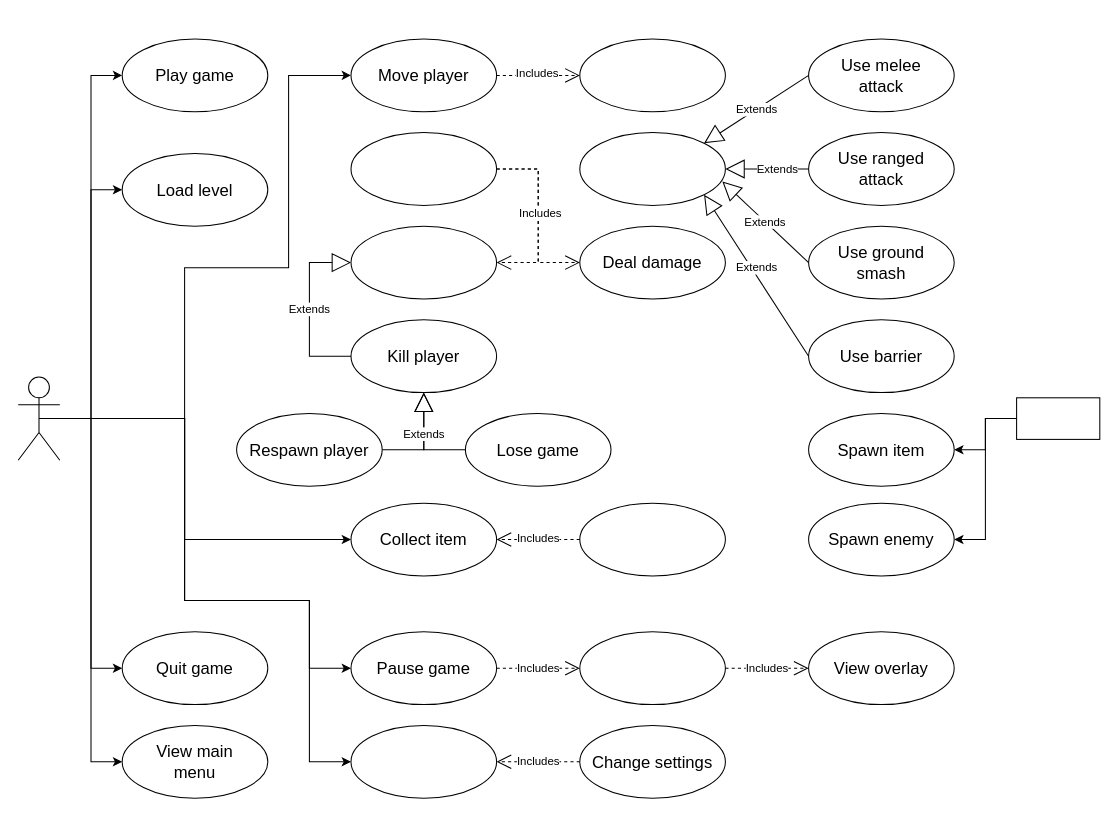
Image size: 1118x837. Some labels were removed from this diagram. The shapes that lost their labels are listed below. From the top down, each one's box as (x1, y1, x2, y2) in pixels, then its label:
(579, 38, 725, 112): Stop player
(350, 132, 497, 205): Battle enemy
(579, 132, 725, 205): Use ability
(350, 225, 497, 299): Take damage
(17, 376, 60, 460): User
(1016, 397, 1100, 439): System
(579, 502, 725, 576): Win game
(579, 631, 725, 705): View pause menu
(350, 724, 497, 798): View settings
